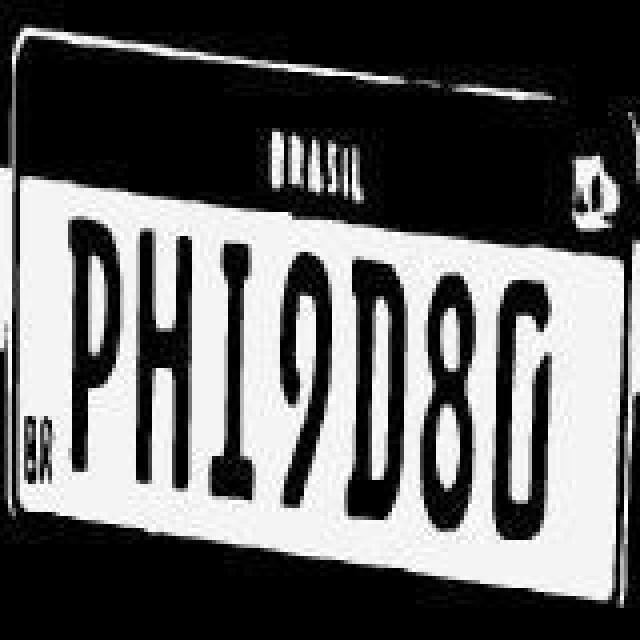8: (426, 256, 486, 544)
9: (274, 238, 334, 530)
D: (346, 234, 414, 534), (488, 266, 552, 550)
H: (132, 224, 196, 496)
I: (200, 240, 264, 512)
P: (66, 216, 126, 480)
